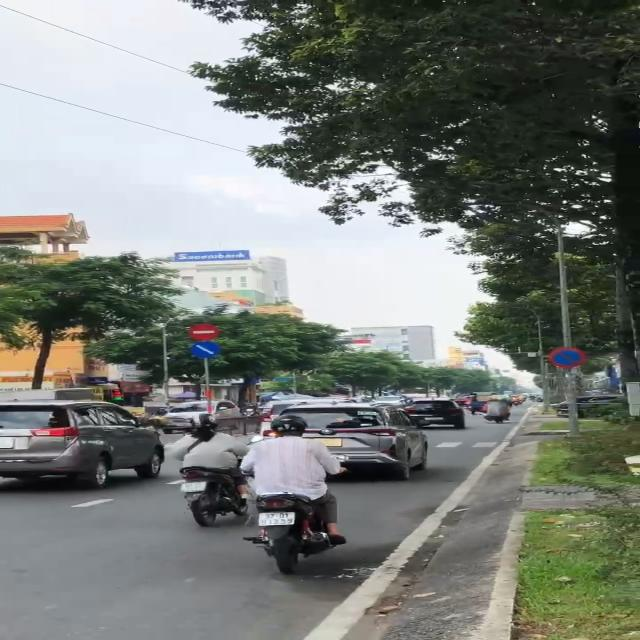Bien bao cam di nguoc chieu: (188, 322, 222, 340)
Bien bao huong phai di vong chuong ngai vat: (188, 340, 225, 360)
